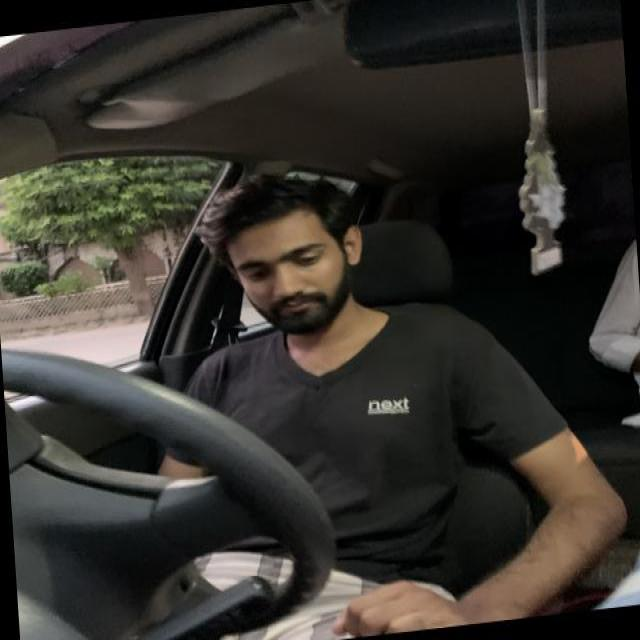no-seatbelt: (206, 314, 504, 580)
